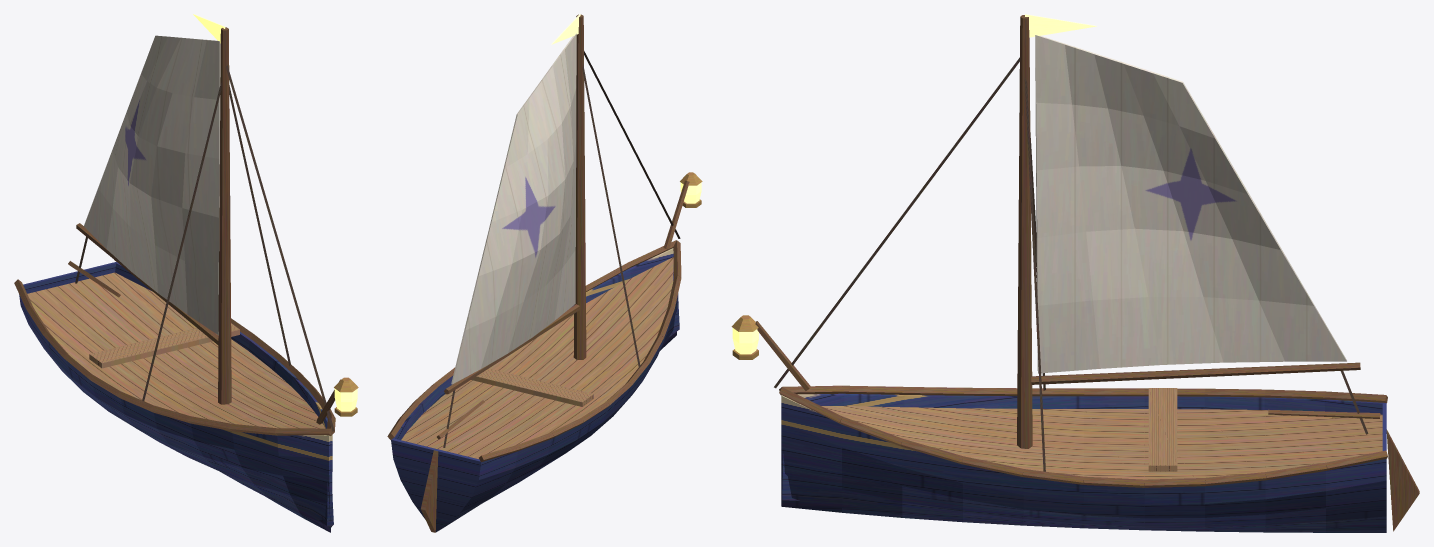
Rendered from AT_Skiff.fbx.
3 views of the same model, side by side, from view 1: azimuth 30°, elevation 25°; view 2: azimuth 150°, elevation 25°; view 3: azimuth 270°, elevation 25° (orthographic). The views are drawn at different scales.
Visible parts, largest first — view 1: Sail, Deck, Hull, Mast, Thwart, Forestay, Shroud_1, Shroud_-1, Boom, Rail_S9, LanternGlass; view 2: Sail, Deck, Hull, Mast, Thwart, Rudder, Shroud_1, Boom, Forestay, LanternPost; view 3: Sail, Hull, Deck, Mast, Boom, Thwart, Rudder, Forestay, Shroud_-1, Pennant.
Part boxes in pixels (x1,y1,x2,y2): Sail: [84, 35, 220, 334]; Deck: [27, 272, 331, 443]; Hull: [19, 262, 333, 532]; Mast: [218, 27, 231, 404]; Thwart: [89, 323, 239, 368]; Forestay: [225, 65, 334, 431]; Shroud_1: [142, 82, 221, 400]; Shroud_-1: [229, 85, 290, 365]; Boom: [76, 223, 218, 344]; Rail_S9: [275, 428, 331, 435]; LanternGlass: [334, 388, 357, 411]; Sail: [451, 33, 576, 384]; Deck: [401, 257, 673, 459]; Hull: [391, 248, 679, 532]; Mast: [573, 14, 586, 359]; Thwart: [471, 368, 593, 406]; Rudder: [421, 450, 438, 532]; Shroud_1: [582, 64, 640, 367]; Boom: [444, 304, 579, 394]; Forestay: [584, 51, 680, 238]; LanternPost: [663, 180, 689, 249]; Sail: [1035, 35, 1346, 373]; Hull: [781, 393, 1386, 532]; Deck: [821, 406, 1382, 479]; Mast: [1017, 15, 1032, 448]; Boom: [1031, 362, 1360, 384]; Thwart: [1148, 388, 1177, 471]; Rudder: [1386, 429, 1419, 531]; Forestay: [774, 57, 1020, 388]; Shroud_-1: [1024, 78, 1045, 471]; Pennant: [1025, 14, 1096, 37].
Bounding box in the file's own units: 1.71 × 4.35 × 5.23.
1 material, 1 textured.
